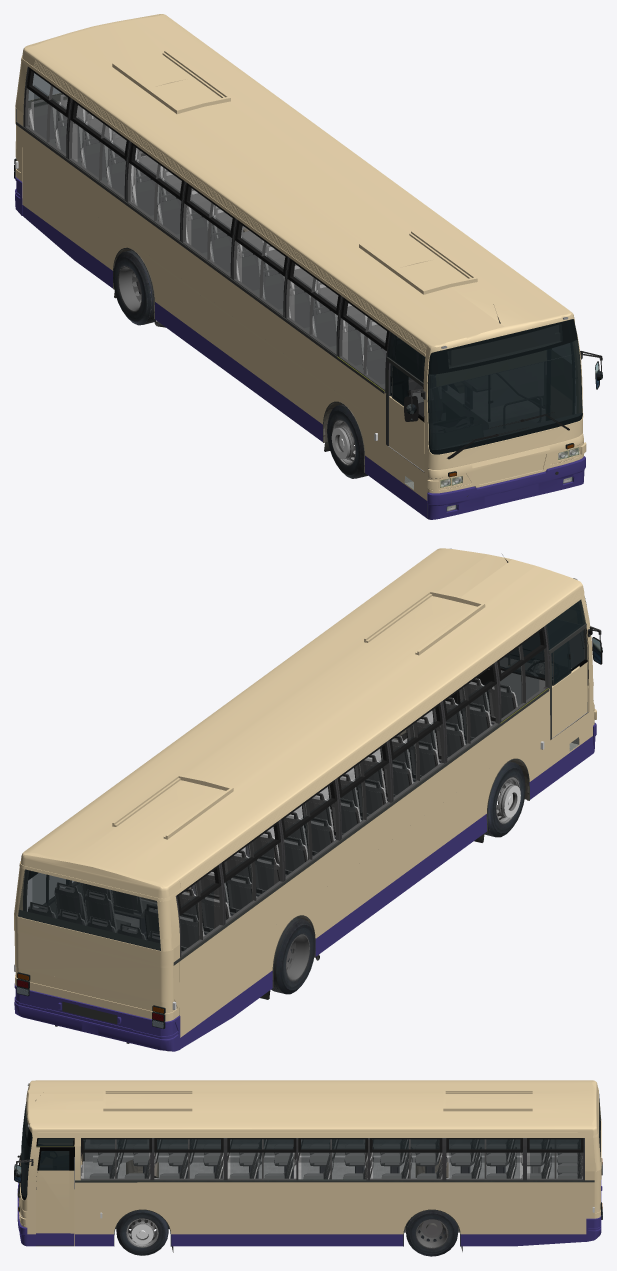
The model's file is bus.glb.
3 renders of one model, top to bottom at view 1: azimuth 30°, elevation 25°; view 2: azimuth 150°, elevation 25°; view 3: azimuth 270°, elevation 25°, orthographic. The views are drawn at different scales.
Visible parts, largest first — view 1: indian-bus_part_28, indian-bus_part_26, indian-bus_part_43, indian-bus_part_31, indian-bus_part_34, indian-bus_part_25, indian-bus_part_24, indian-bus_part_45, indian-bus_part_54, indian-bus_part_29, indian-bus_part_102, indian-bus_part_209 (+10 smaller); view 2: indian-bus_part_28, indian-bus_part_43, indian-bus_part_31, indian-bus_part_26, indian-bus_part_34, indian-bus_part_24, indian-bus_part_25, indian-bus_part_53, indian-bus_part_102, indian-bus_part_29, indian-bus_part_209, indian-bus_part_208 (+14 smaller); view 3: indian-bus_part_28, indian-bus_part_43, indian-bus_part_42, indian-bus_part_31, indian-bus_part_63, indian-bus_part_34, indian-bus_part_13, indian-bus_part_35, indian-bus_part_24, indian-bus_part_201, indian-bus_part_200, indian-bus_part_196 (+21 smaller).
Boxes of the visible parts, box(x1,y1,x2,y2) form: indian-bus_part_28: box(15, 14, 586, 500); indian-bus_part_26: box(28, 73, 582, 454); indian-bus_part_43: box(28, 94, 459, 445); indian-bus_part_31: box(15, 176, 585, 519); indian-bus_part_34: box(26, 67, 599, 478); indian-bus_part_25: box(16, 66, 562, 518); indian-bus_part_24: box(25, 85, 385, 388); indian-bus_part_45: box(428, 319, 581, 454); indian-bus_part_54: box(29, 96, 386, 374); indian-bus_part_29: box(24, 66, 423, 443); indian-bus_part_102: box(389, 396, 424, 471); indian-bus_part_209: box(78, 117, 125, 195); indian-bus_part_28: box(14, 548, 596, 1037); indian-bus_part_43: box(28, 657, 571, 952); indian-bus_part_31: box(14, 723, 596, 1051); indian-bus_part_26: box(18, 598, 586, 950); indian-bus_part_34: box(28, 554, 602, 915); indian-bus_part_24: box(24, 645, 548, 956); indian-bus_part_25: box(18, 625, 572, 1024); indian-bus_part_53: box(186, 678, 516, 929); indian-bus_part_102: box(552, 662, 587, 737); indian-bus_part_29: box(23, 625, 549, 956); indian-bus_part_209: box(224, 839, 273, 919); indian-bus_part_208: box(284, 798, 329, 875); indian-bus_part_28: box(18, 1080, 601, 1246); indian-bus_part_43: box(81, 1139, 582, 1179); indian-bus_part_42: box(37, 1139, 578, 1179); indian-bus_part_31: box(17, 1180, 602, 1246); indian-bus_part_63: box(37, 1138, 580, 1149); indian-bus_part_34: box(14, 1100, 583, 1226); indian-bus_part_13: box(36, 1170, 74, 1233); indian-bus_part_35: box(75, 1179, 594, 1246); indian-bus_part_24: box(81, 1139, 583, 1180); indian-bus_part_201: box(449, 1153, 519, 1178); indian-bus_part_200: box(373, 1153, 438, 1178); indian-bus_part_196: box(84, 1153, 148, 1178).
Size of the model in its own units: 3.04 by 3.24 by 12.21.
Materials: 80 (52 with a texture image).
